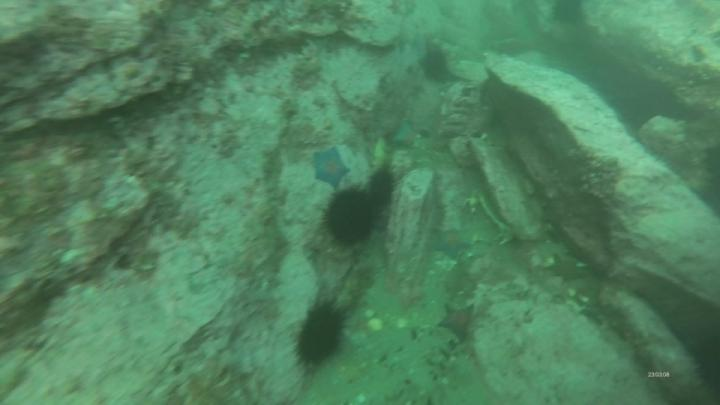echinus: (300, 306, 346, 362), (329, 192, 375, 242), (421, 50, 452, 81), (371, 170, 397, 205)
starfish: (314, 149, 351, 188), (438, 304, 474, 340), (436, 229, 470, 259), (549, 256, 583, 282)
